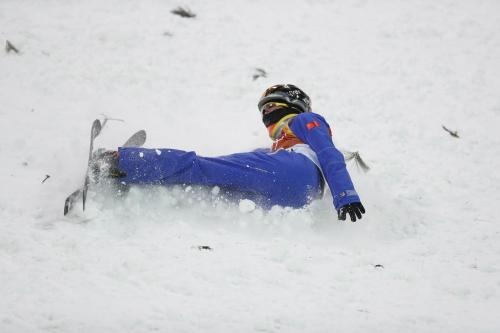falling: (69, 67, 376, 233)
